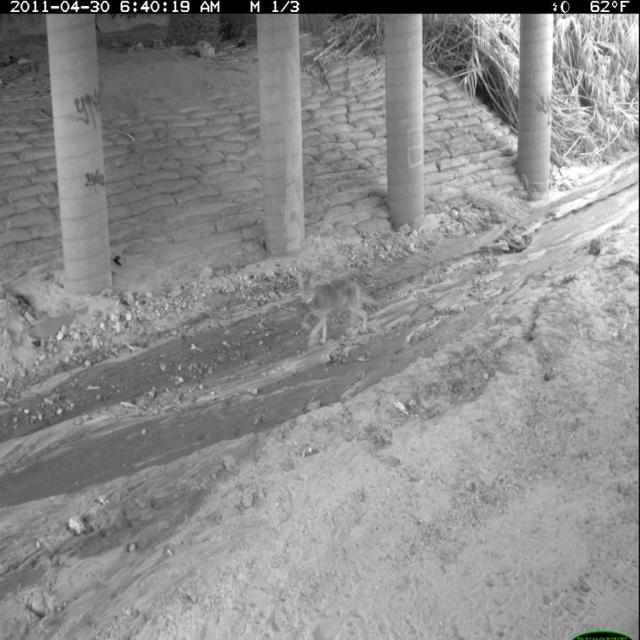coyote: (293, 267, 384, 353)
rabbit: (297, 301, 317, 336)
